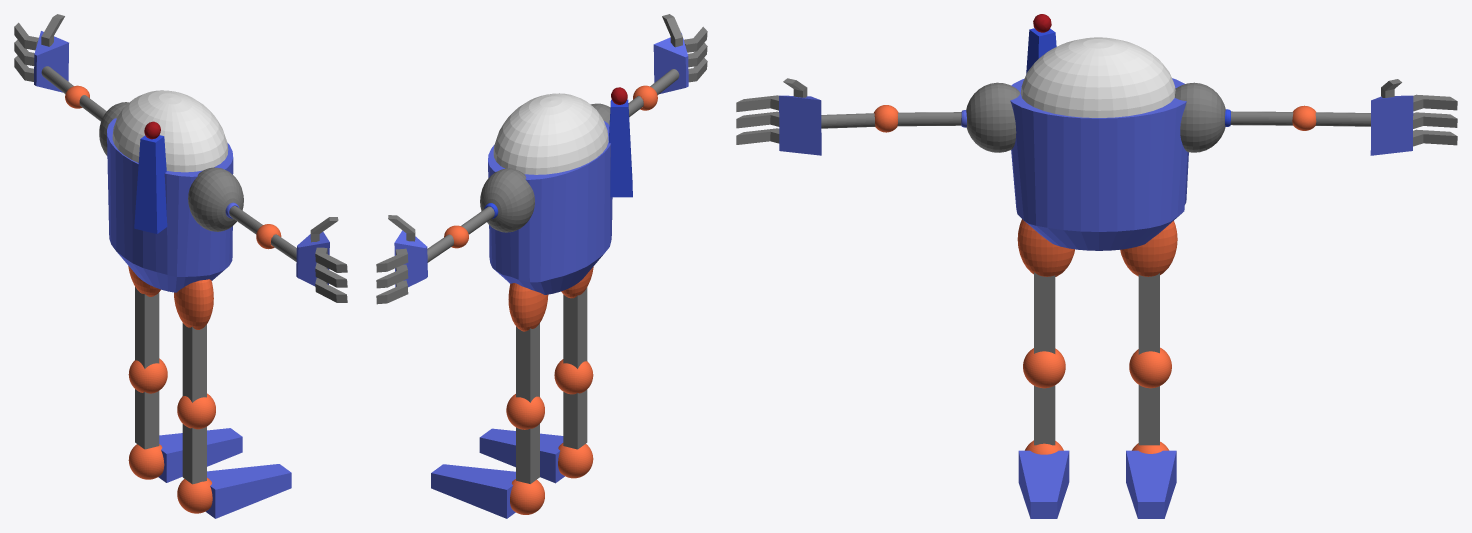
Rendered from big robot.fbx.
The picture shows the model from 3 angles, left to right: view 1: azimuth 30°, elevation 25°; view 2: azimuth 150°, elevation 25°; view 3: azimuth 270°, elevation 25°; orthographic projection. The views are drawn at different scales.
Visible parts, largest first — view 1: Torso, Glass head, Left arm, right leg, left leg, left foot, Cube.014, right foot, left leg joint, right hand, right arm, left knee (+9 smaller); view 2: Torso, Glass head, right arm, left leg, right foot, right leg, left foot, Cube.014, right leg joiint, left hand, right hand, right knee (+9 smaller); view 3: Torso, Glass head, Left arm, right arm, left foot, right foot, right leg, left leg, left hand, right hand, left leg joint, right leg joiint (+2 smaller).
Boxes of the visible parts, x1=… form: Torso: x1=107, y1=118, x2=233, y2=292; Glass head: x1=112, y1=90, x2=228, y2=172; Left arm: x1=188, y1=167, x2=296, y2=261; right leg: x1=135, y1=287, x2=159, y2=449; left leg: x1=182, y1=323, x2=206, y2=484; left foot: x1=205, y1=464, x2=291, y2=518; Cube.014: x1=134, y1=135, x2=167, y2=233; right foot: x1=158, y1=428, x2=242, y2=482; left leg joint: x1=174, y1=279, x2=213, y2=329; right hand: x1=34, y1=31, x2=68, y2=92; right arm: x1=41, y1=66, x2=128, y2=155; left knee: x1=177, y1=393, x2=215, y2=429; Torso: x1=488, y1=121, x2=612, y2=294; Glass head: x1=493, y1=93, x2=608, y2=174; right arm: x1=427, y1=168, x2=534, y2=262; left leg: x1=563, y1=287, x2=587, y2=449; right foot: x1=431, y1=464, x2=515, y2=518; right leg: x1=516, y1=323, x2=539, y2=483; left foot: x1=479, y1=428, x2=564, y2=483; Cube.014: x1=609, y1=99, x2=632, y2=197; right leg joiint: x1=508, y1=283, x2=548, y2=331; left hand: x1=653, y1=33, x2=688, y2=94; right hand: x1=394, y1=230, x2=427, y2=287; right knee: x1=506, y1=394, x2=544, y2=429; Torso: x1=1010, y1=78, x2=1188, y2=250; Glass head: x1=1020, y1=37, x2=1175, y2=117; Left arm: x1=821, y1=82, x2=1019, y2=152; right arm: x1=1175, y1=82, x2=1370, y2=152; left foot: x1=1018, y1=450, x2=1069, y2=518; right foot: x1=1126, y1=450, x2=1176, y2=518; right leg: x1=1138, y1=273, x2=1159, y2=445; left leg: x1=1034, y1=272, x2=1055, y2=445; left hand: x1=779, y1=95, x2=821, y2=155; right hand: x1=1370, y1=95, x2=1413, y2=155; left leg joint: x1=1017, y1=219, x2=1074, y2=276; right leg joiint: x1=1120, y1=221, x2=1177, y2=276.
Bounding box in the file's own units: 612 × 1574 × 2328.
